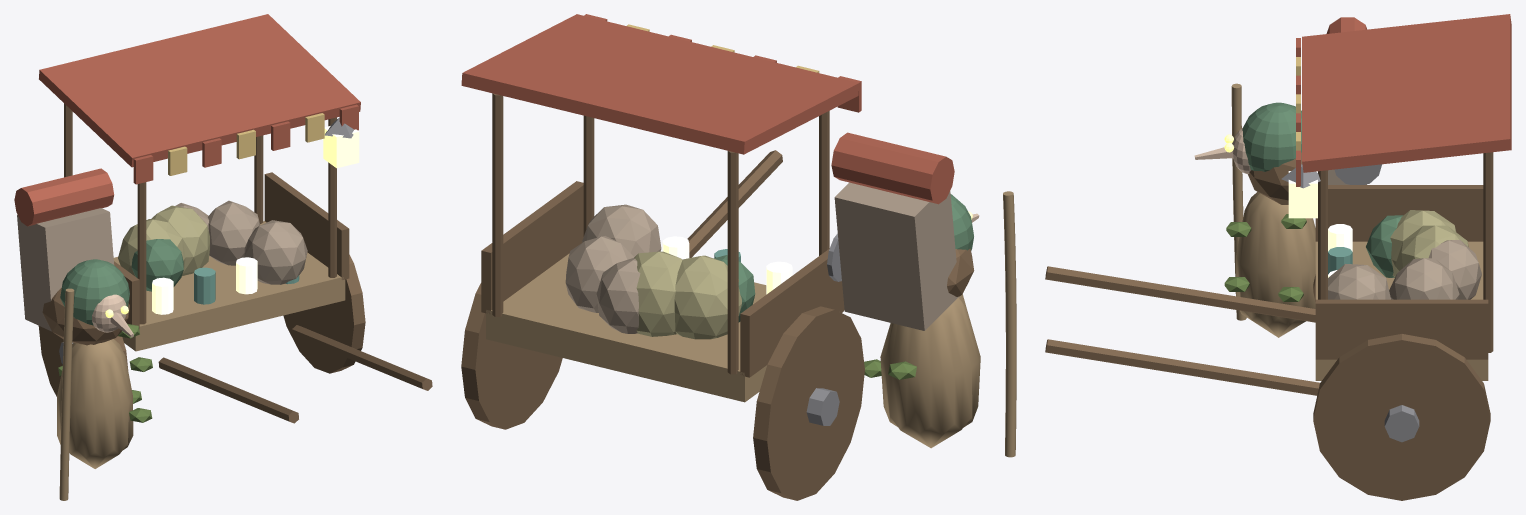
File: pedlar.glb
3 views of the same model, side by side, from view 1: azimuth 30°, elevation 25°; view 2: azimuth 150°, elevation 25°; view 3: azimuth 270°, elevation 25° (orthographic). The views are drawn at different scales.
Parts seen in each view (by area): view 1: pedlar; view 2: pedlar; view 3: pedlar.
Part boxes in pixels (x1,y1,x2,y2): pedlar: (14,14,432,500); pedlar: (461,14,1016,500); pedlar: (1045,14,1511,500).
Size of the model in its own units: 1.83 by 1.6 by 1.89.
